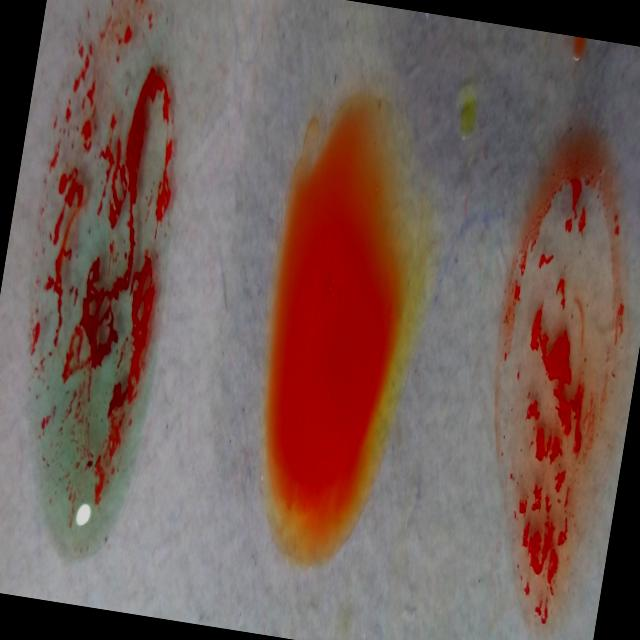A: (0, 0, 215, 566)
D: (454, 127, 640, 626)
